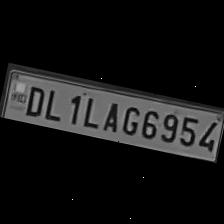1: (60, 87, 85, 124)
4: (194, 114, 220, 150)
5: (175, 111, 199, 147)
6: (137, 104, 161, 140)
9: (154, 106, 180, 144)
A: (98, 96, 123, 132)
D: (20, 80, 48, 117)
G: (116, 100, 141, 136)
L: (39, 83, 66, 122), (78, 91, 104, 128)
